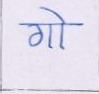e_matra: (39, 7, 68, 22)
